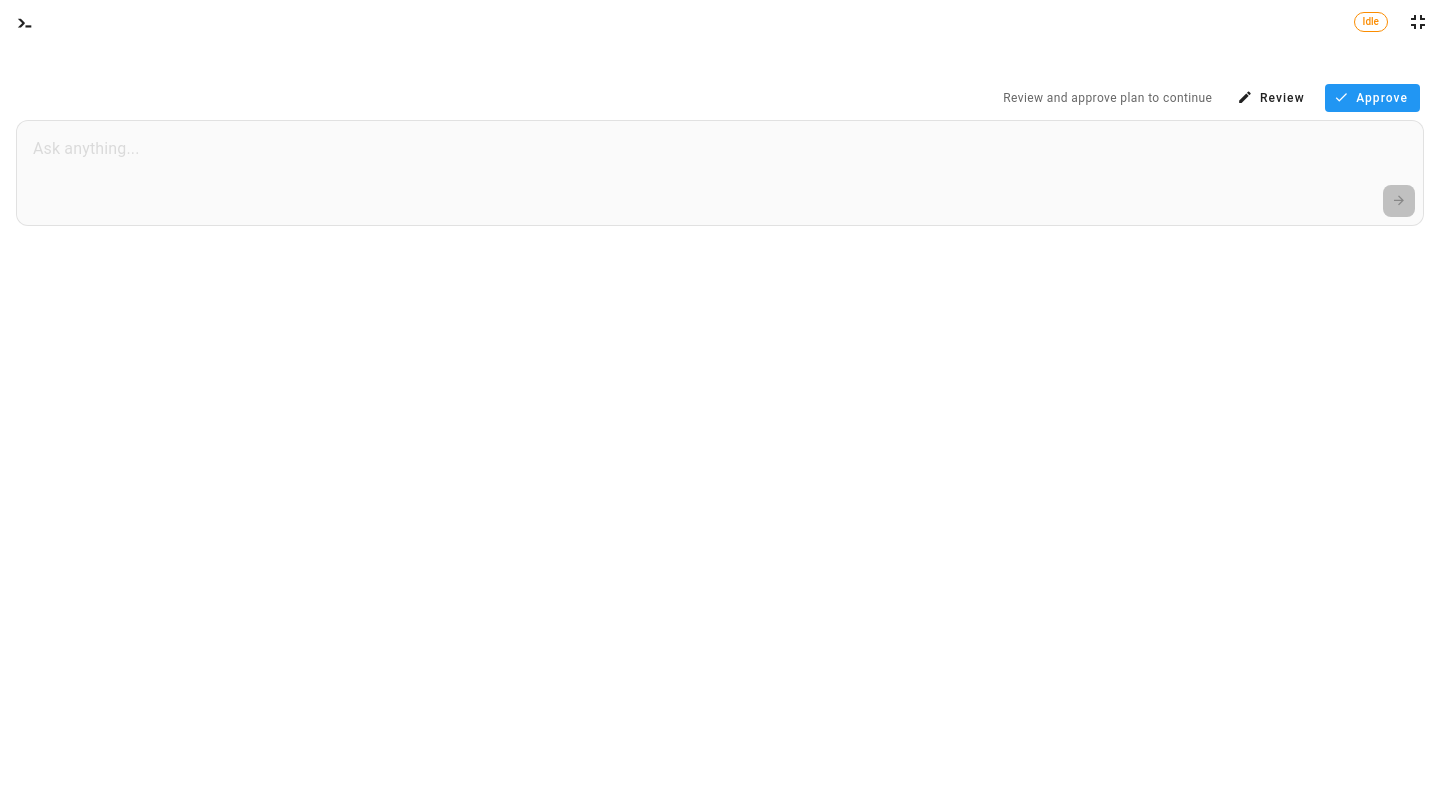
InvestigationChat.vue › handles rejection with reason
This screenshot has width=1440, height=810.
Step 1. Click the button "Review" → (1273, 98), box [1228, 84, 1317, 112]
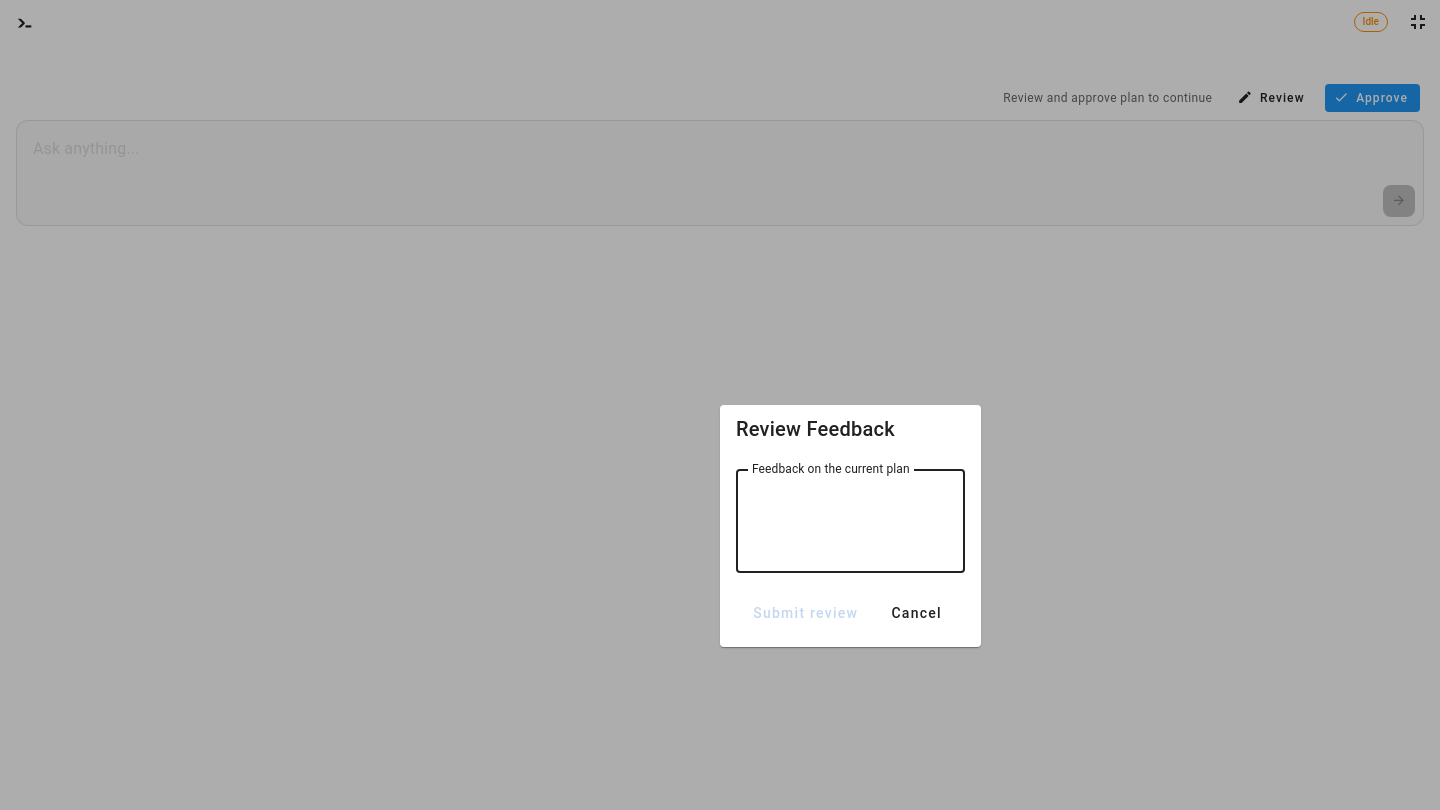
Expected: the text "Review Feedback" is shown, [736, 417, 895, 441]
